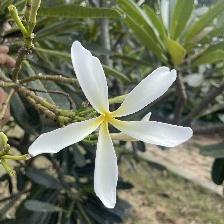champaka: (27, 37, 198, 215)
